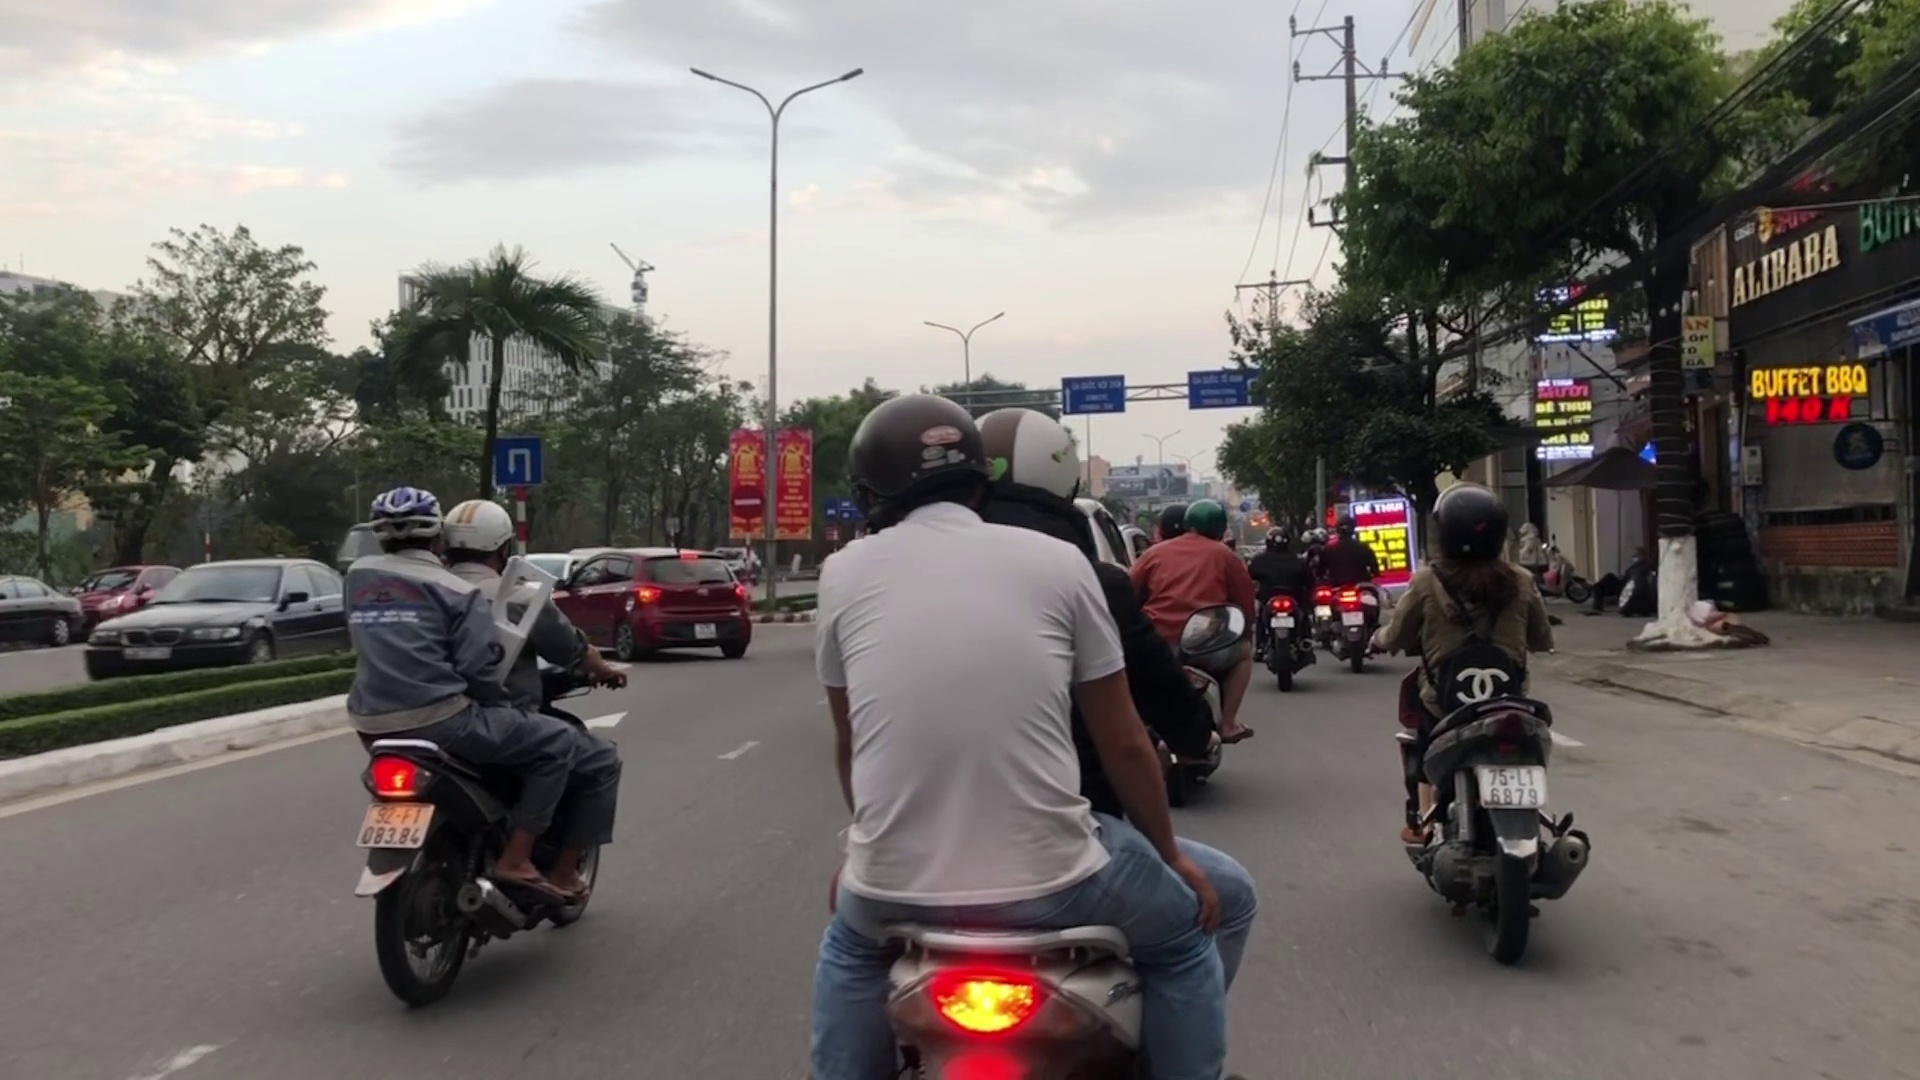Bien khac: (492, 435, 542, 491)
